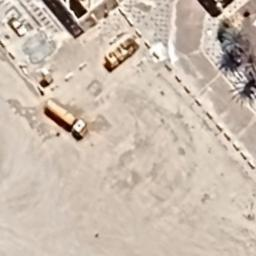truck: (43, 92, 90, 142)
